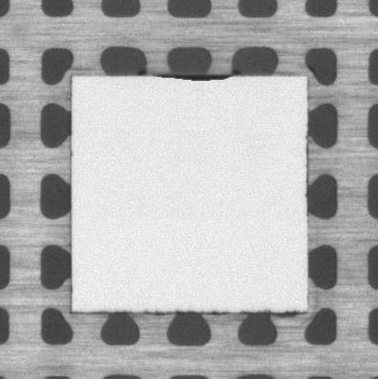DIE_BROKEN: (154, 72, 233, 85)
